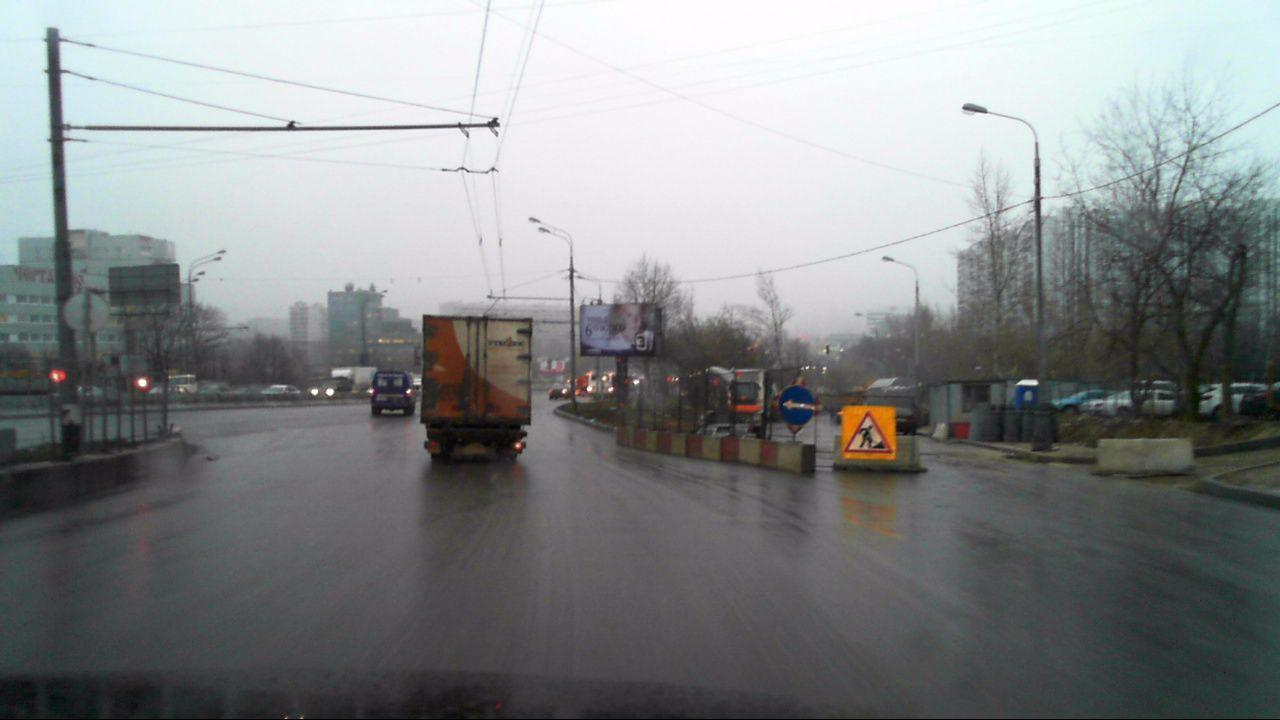1_25: (846, 408, 893, 455)
4_2_2: (778, 385, 812, 426)
